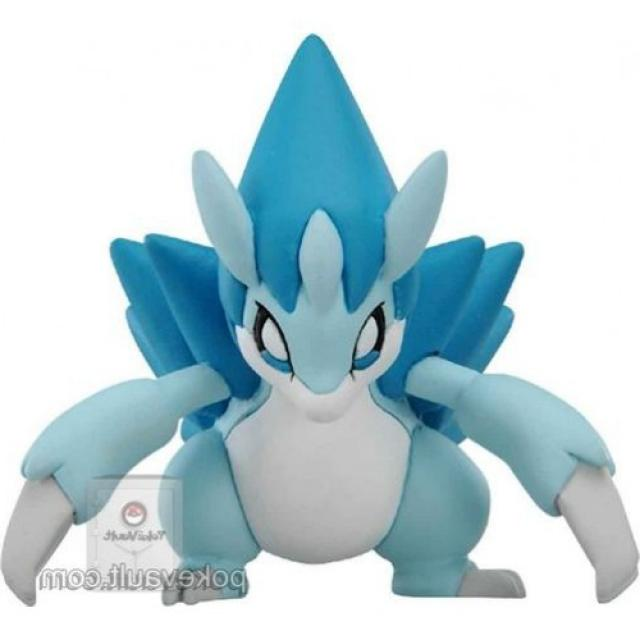Alolan: (103, 116, 540, 597)
